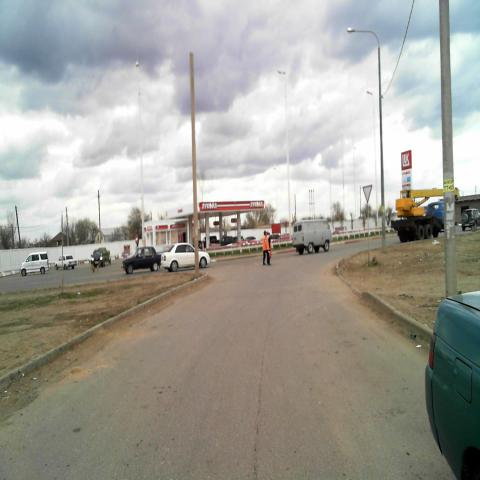2_4: (363, 184, 373, 204)
